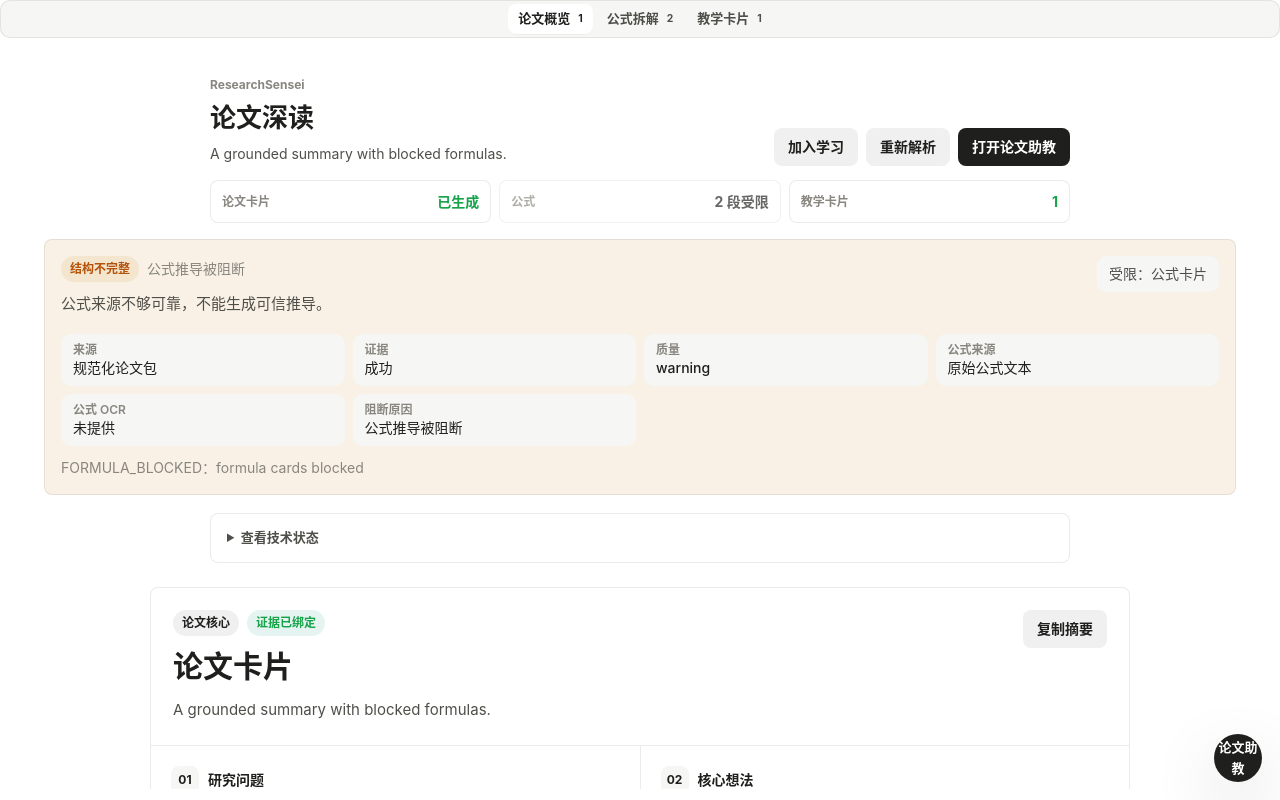
Test: LearningWorkspaceView › renders available components for structural formula degradation
Check: the element with test id "paper-card" shows "A grounded summary with blocked formulas.", box [173,700,491,719]
Click the tab "公式拆解 2" at point(640, 19), box [597,4,683,34]
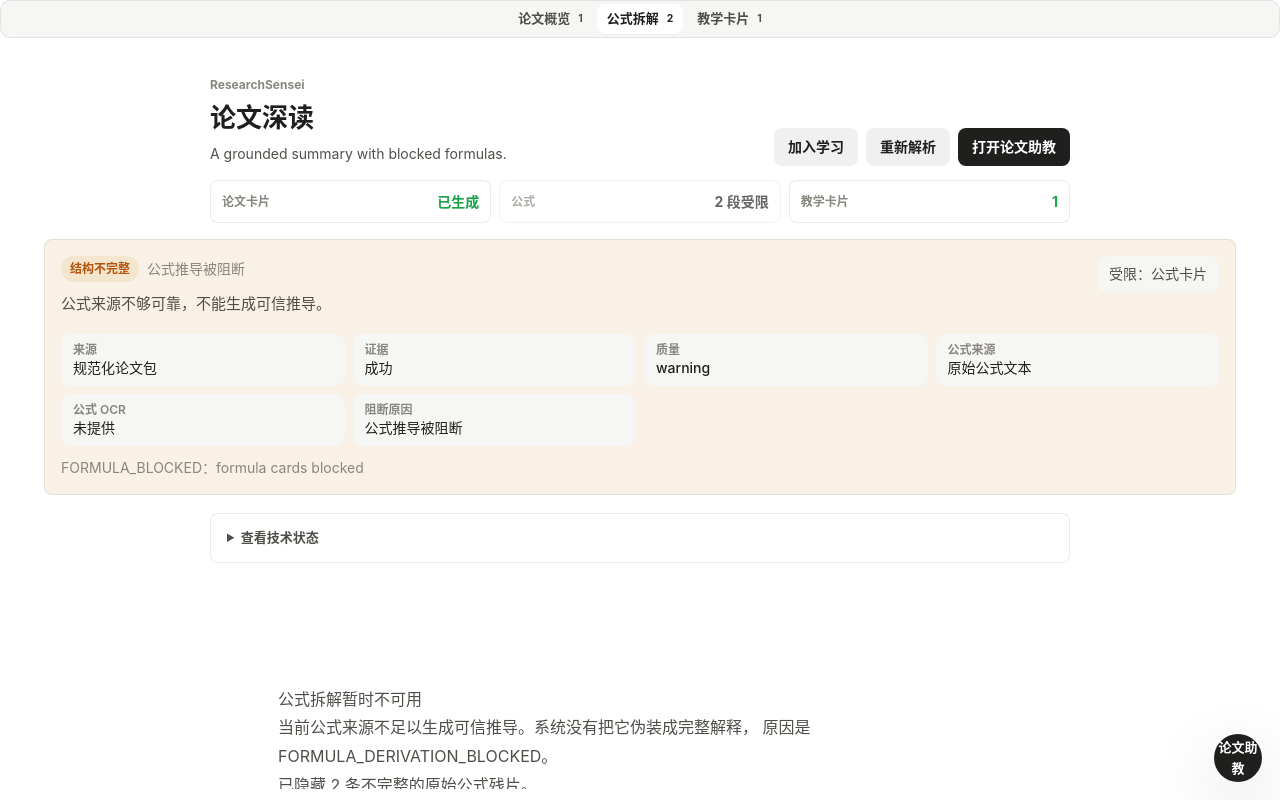
Check: the element with test id "formula-degraded-message" shows "公式拆解暂时不可用", box [278,689,422,709]
Check: the element with test id "formula-degraded-message" shows "已隐藏 2 条不完整的原始公式残片", box [278,775,537,789]
Click the tab "教学卡片 1" at point(730, 19), box [687,4,772,34]
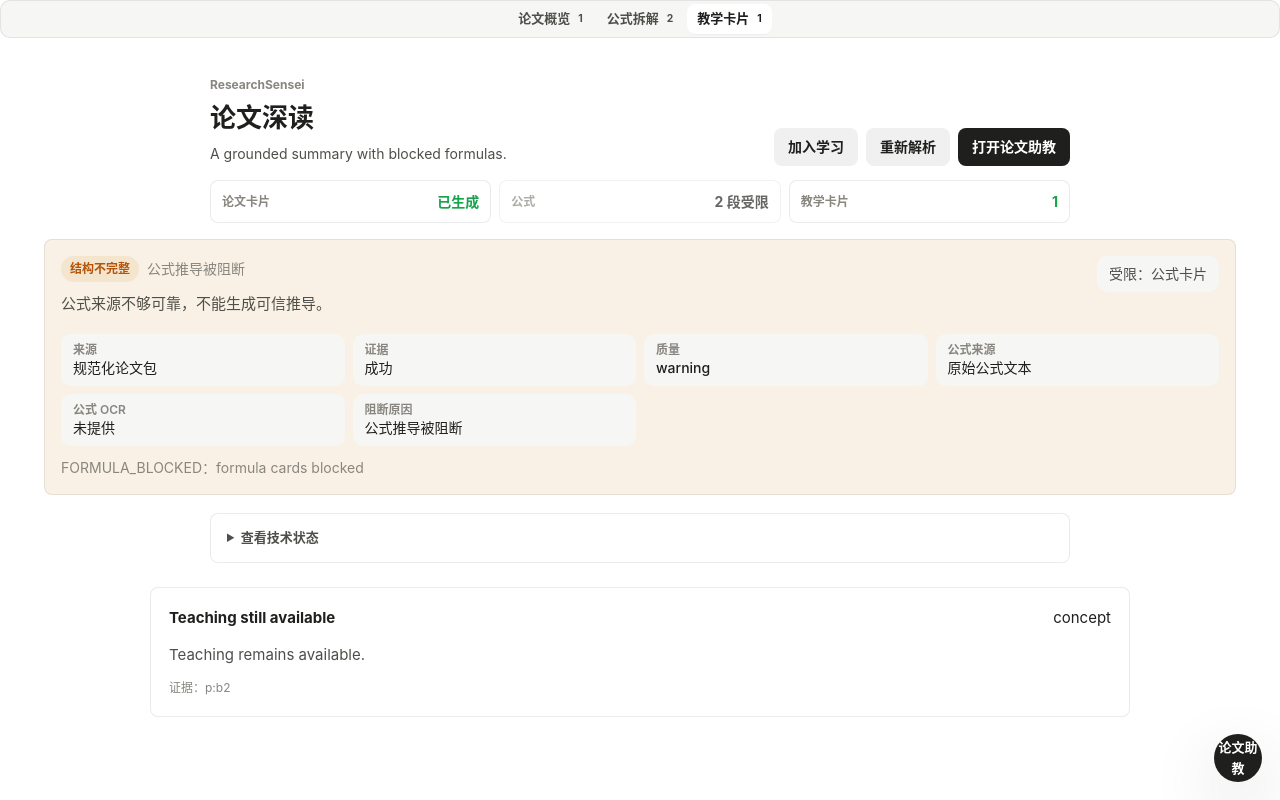
Check: the panel with test id "teaching-cards" shows "Teaching remains available.", box [169,645,365,664]
